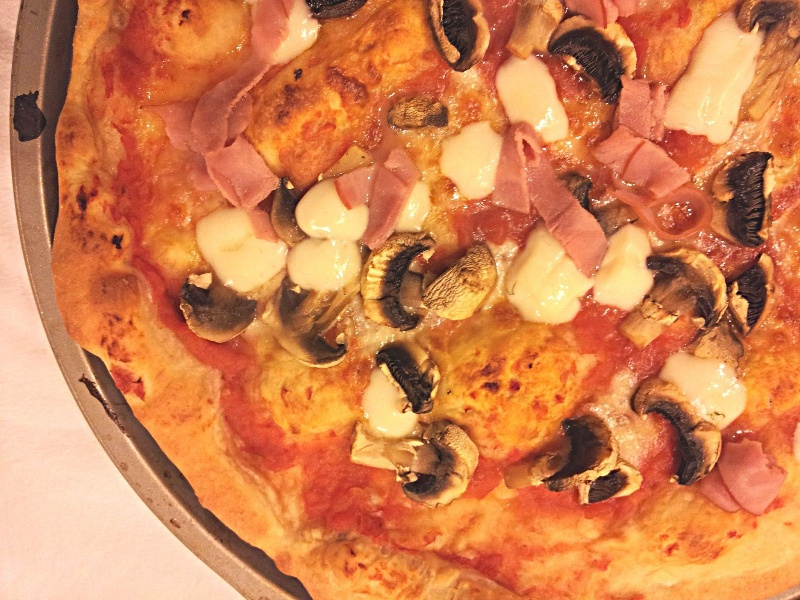champignon: (625, 372, 730, 492), (611, 247, 728, 354), (695, 143, 790, 263), (389, 416, 483, 509), (357, 227, 435, 339)
